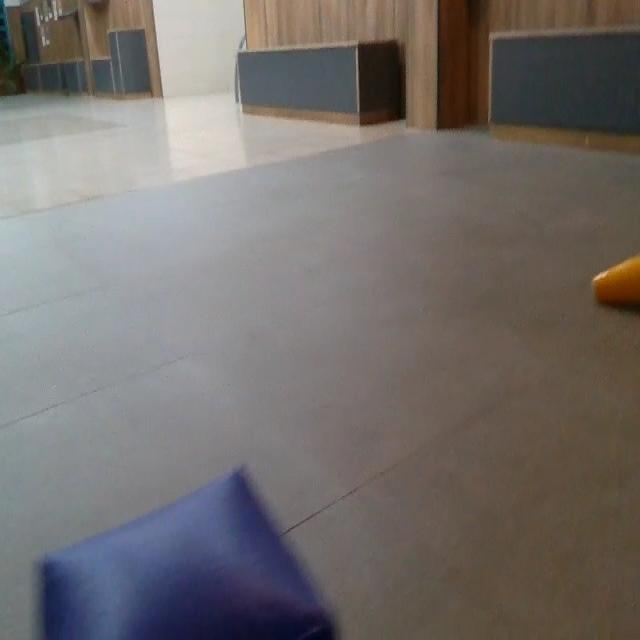cone: (593, 249, 640, 312)
cube: (37, 460, 337, 640)
